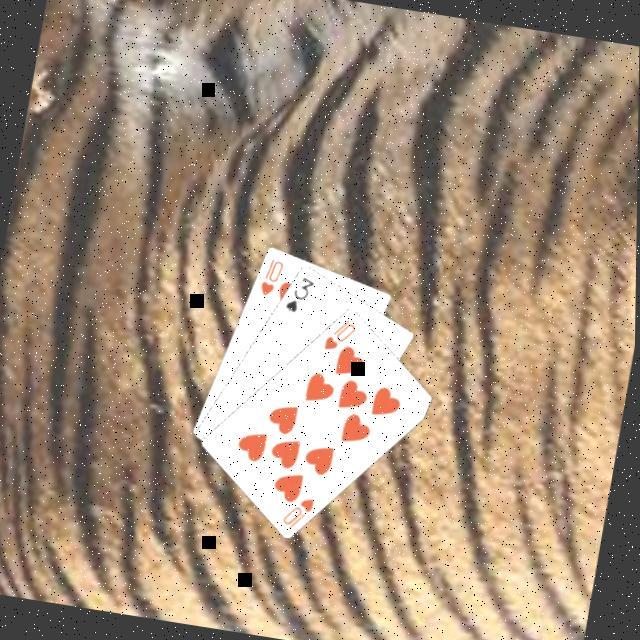10H: (322, 314, 364, 360), (280, 492, 322, 538), (258, 255, 290, 302)
3S: (284, 274, 320, 320)
